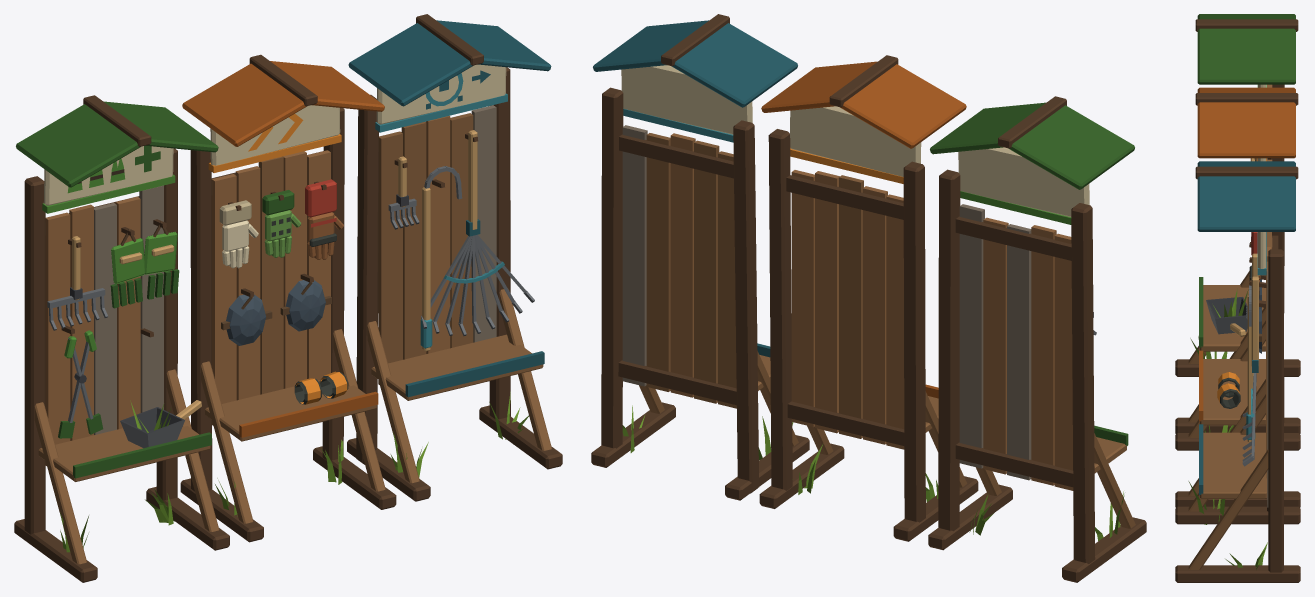
The model's file is HandUpgrade_Stand.fbx.
3 renders of one model, left to right at view 1: azimuth 30°, elevation 25°; view 2: azimuth 150°, elevation 25°; view 3: azimuth 270°, elevation 25°, orthographic. The views are drawn at different scales.
Parts seen in each view (by area): view 1: BundlesSection, RadiusSection, SpeedSection; view 2: BundlesSection, RadiusSection, SpeedSection; view 3: RadiusSection, SpeedSection, BundlesSection.
Part boxes in pixels (x1,y1,x2,y2): BundlesSection: (14,95,229,582); RadiusSection: (347,14,562,501); SpeedSection: (180,54,396,542); BundlesSection: (928,96,1146,582); RadiusSection: (591,14,809,500); SpeedSection: (759,55,978,541); RadiusSection: (1175,161,1300,582); SpeedSection: (1175,87,1300,507); BundlesSection: (1175,14,1300,433).
Size of the model in its own units: 2.3 by 1.89 by 0.56.
Materials: 1 (1 with a texture image).
